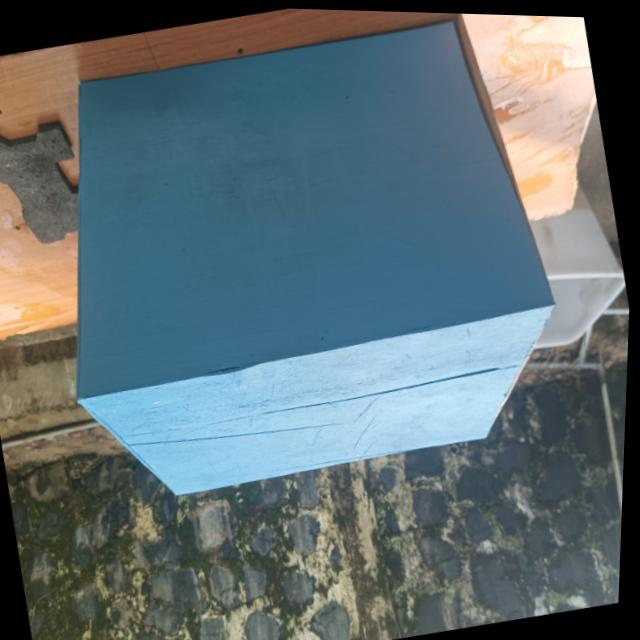blue_box: (11, 1, 597, 523)
